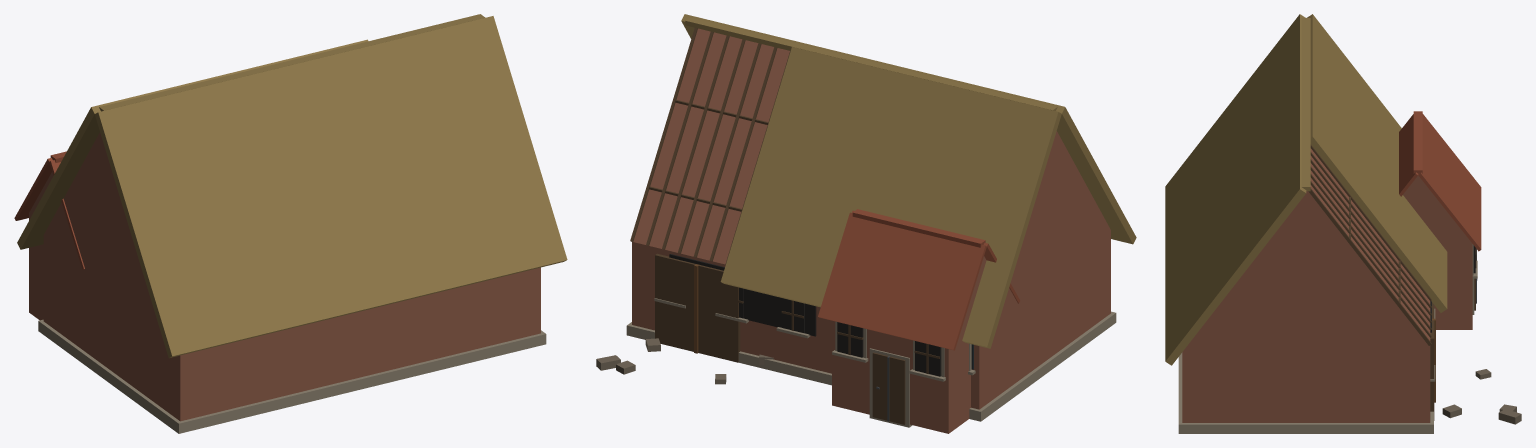
Rendered from farmhouse_dutch_damaged.glb.
3 views of the same model, side by side, from view 1: azimuth 30°, elevation 25°; view 2: azimuth 150°, elevation 25°; view 3: azimuth 270°, elevation 25° (orthographic). The views are drawn at different scales.
Parts seen in each view (by area): view 1: farmhouse_dutch_damaged; view 2: farmhouse_dutch_damaged; view 3: farmhouse_dutch_damaged.
Boxes of the visible parts, <box> form: farmhouse_dutch_damaged: <box>14,14,567,433</box>; farmhouse_dutch_damaged: <box>596,14,1136,433</box>; farmhouse_dutch_damaged: <box>1165,14,1521,433</box>.
Size of the model in its own units: 13.7 by 9.24 by 11.78.
